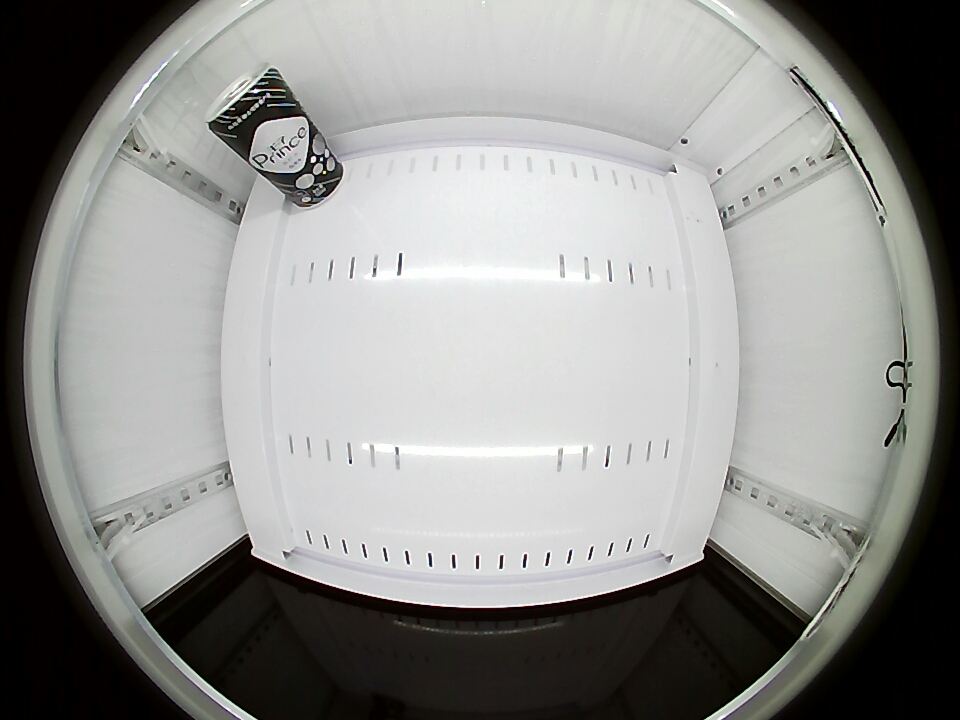qingdaowangzi-1: (205, 66, 285, 145)
